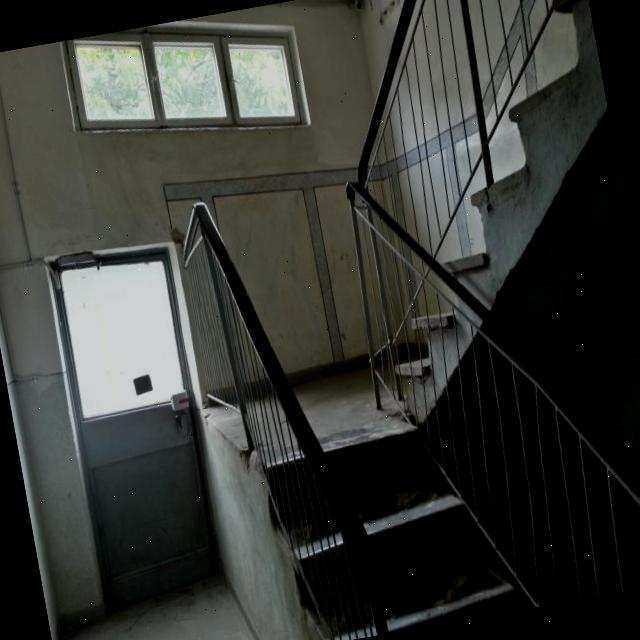stairs: (257, 405, 523, 640)
